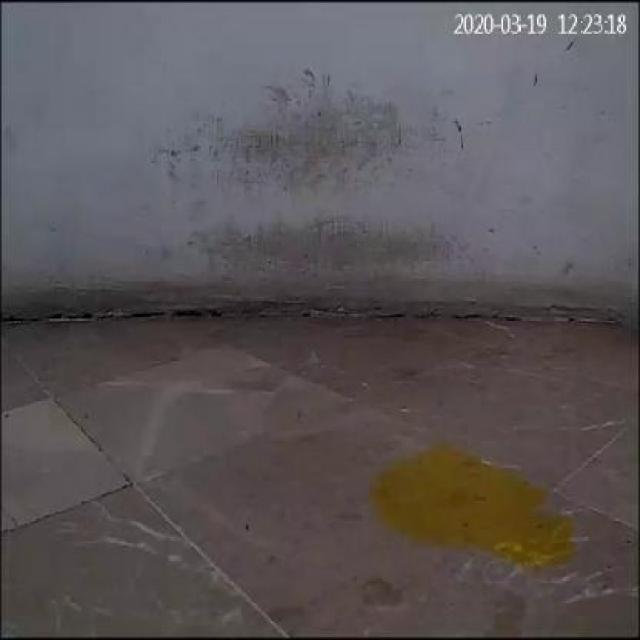spill: (364, 429, 584, 578)
